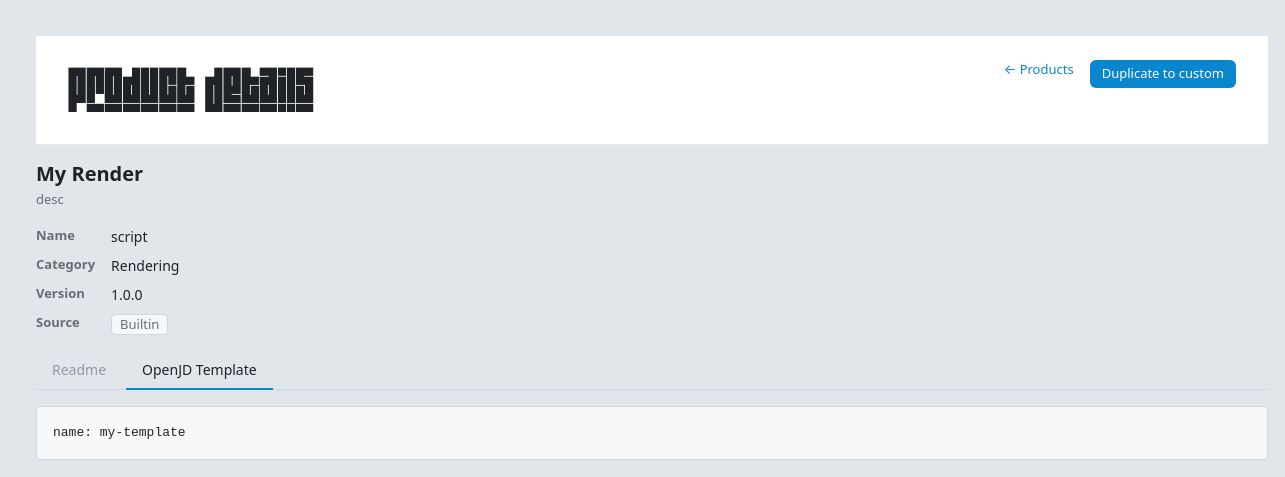
Scenario: ProductDetail › duplicating a built-in navigates to the create form
Click the button "Duplicate to custom" at (1163, 74), box top-left (1090, 60), bottom-right (1236, 88)
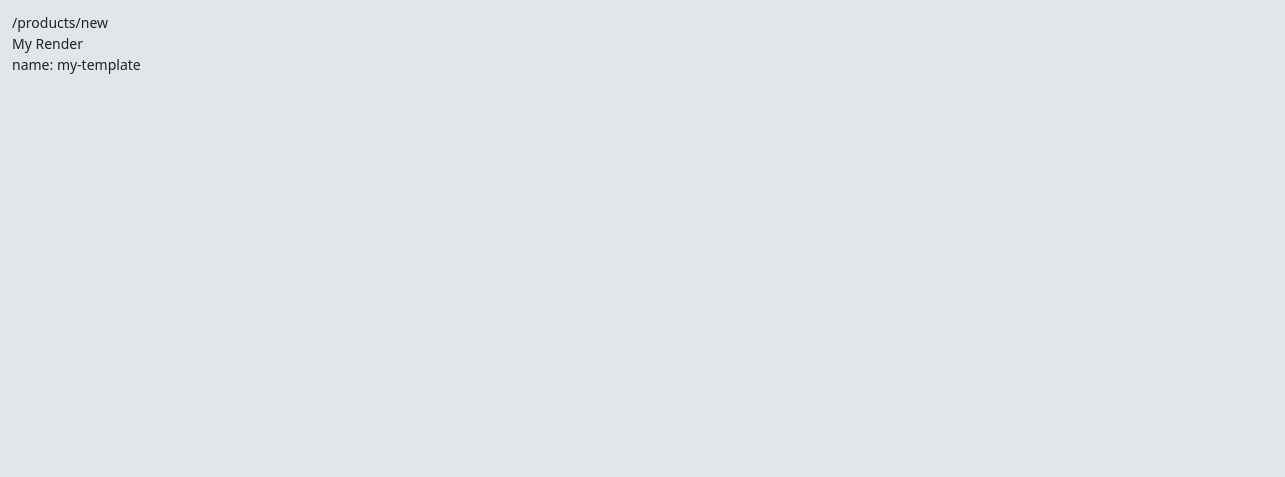
Expected: the text with test id "dup-title" reads "My Render", top-left (12, 34), bottom-right (83, 53)
Now the text with test id "location" reads "/products/new", box top-left (12, 13), bottom-right (108, 32)
